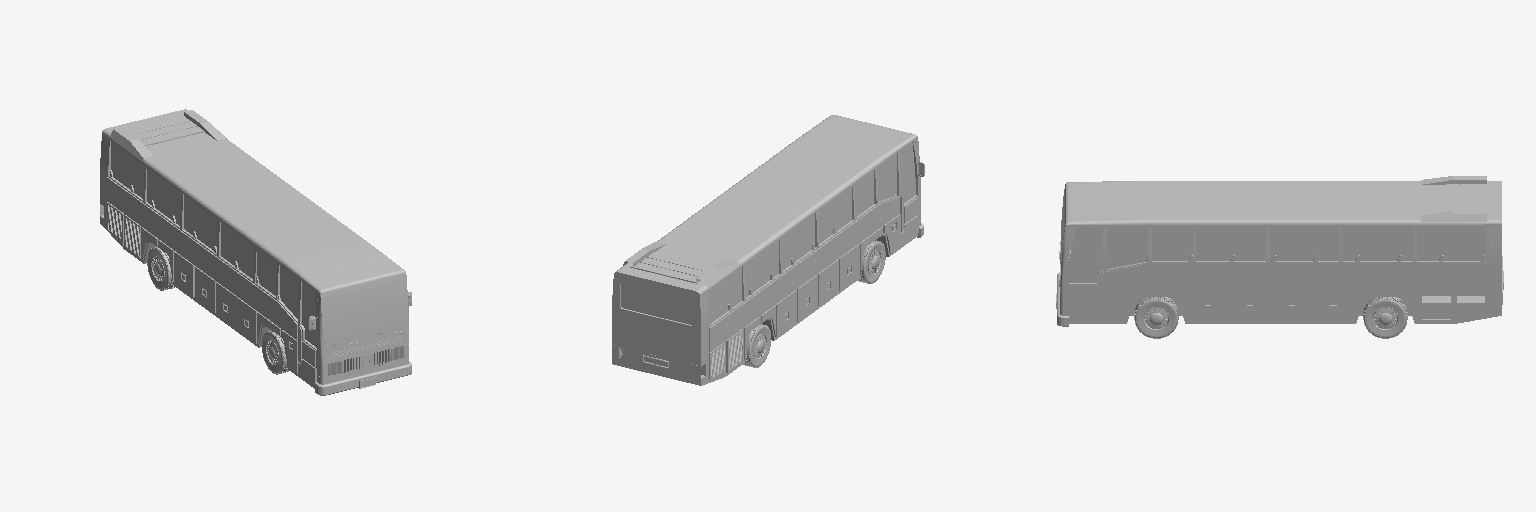
Rendered from bus.obj.
The picture shows the model from 3 angles: view 1: azimuth 30°, elevation 25°; view 2: azimuth 150°, elevation 25°; view 3: azimuth 270°, elevation 25°; orthographic projection.
Parts seen in each view (by area): view 1: Object03, Object01, Object08, Object06, Object11; view 2: Object03, Object01, Object08, Object06; view 3: Object03, Object01, Object08, Object06.
Boxes of the visible parts, x1=… form: Object03: x1=100, y1=109, x2=408, y2=388; Object01: x1=108, y1=141, x2=408, y2=375; Object08: x1=147, y1=247, x2=411, y2=395; Object06: x1=151, y1=256, x2=390, y2=372; Object11: x1=101, y1=205, x2=410, y2=356; Object03: x1=612, y1=115, x2=920, y2=385; Object01: x1=621, y1=138, x2=920, y2=326; Object08: x1=743, y1=223, x2=923, y2=367; Object06: x1=627, y1=250, x2=881, y2=374; Object03: x1=1060, y1=176, x2=1501, y2=323; Object01: x1=1060, y1=189, x2=1485, y2=283; Object08: x1=1057, y1=272, x2=1407, y2=338; Object06: x1=1059, y1=260, x2=1503, y2=330.
Bounding box in the file's own units: 41.53 × 46.74 × 156.